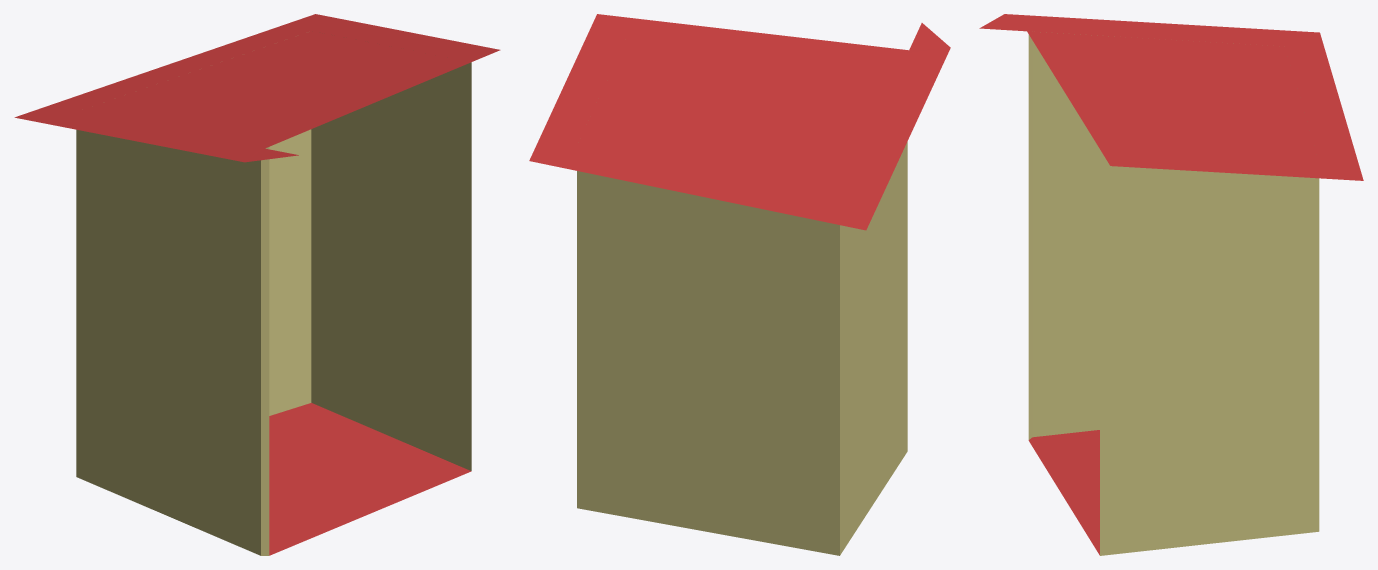
3 views of the same model, side by side, from view 1: azimuth 30°, elevation 25°; view 2: azimuth 150°, elevation 25°; view 3: azimuth 270°, elevation 25° (orthographic). The views are drawn at different scales.
Size of the model in its own units: 5.37 by 4.72 by 5.61.
